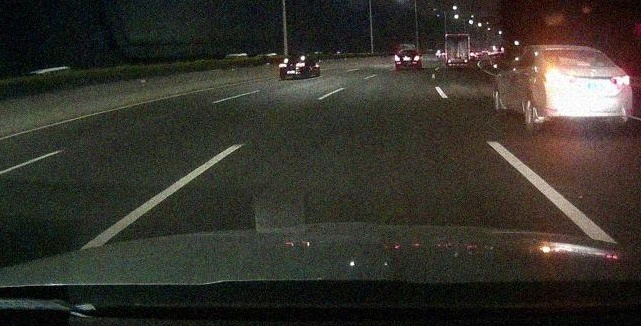L_light: (543, 71, 571, 82)
R_light: (611, 74, 630, 85)
T_light: (566, 49, 579, 53)
night-no: (535, 45, 632, 130)
